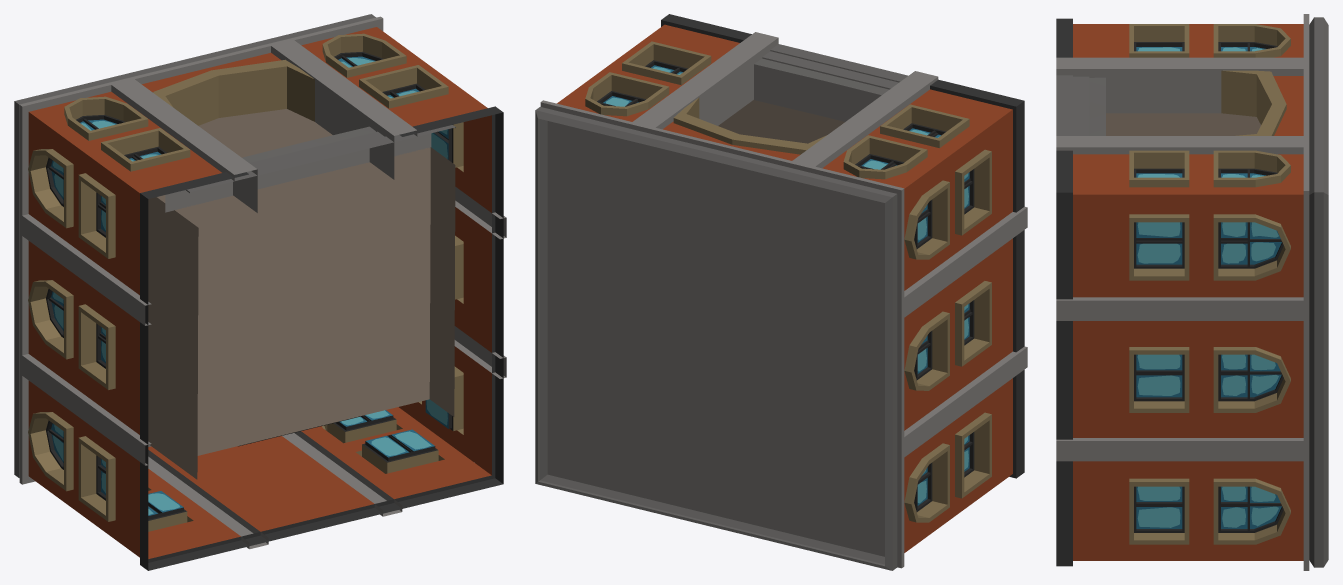
The model's file is Building_01_01_w.FBX.
The picture shows the model from 3 angles, left to right: view 1: azimuth 30°, elevation 25°; view 2: azimuth 150°, elevation 25°; view 3: azimuth 270°, elevation 25°; orthographic projection.
Parts seen in each view (by area): view 1: Building_01_01_Wide; view 2: Building_01_01_Wide; view 3: Building_01_01_Wide.
Part boxes in pixels (x1,y1,x2,y2): Building_01_01_Wide: (14, 14, 506, 570); Building_01_01_Wide: (535, 14, 1027, 570); Building_01_01_Wide: (1056, 14, 1328, 570).
Size of the model in its own units: 1020 by 1020 by 660.
